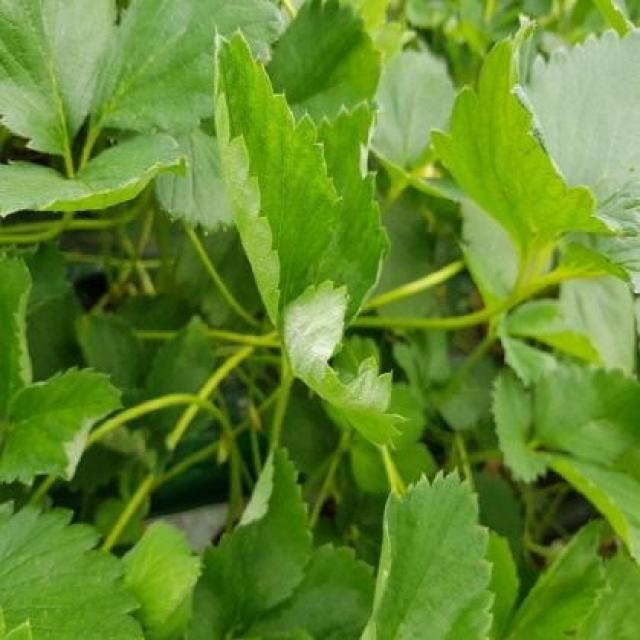powdery_mildew_leaf: (213, 27, 343, 359), (285, 280, 414, 450), (198, 444, 315, 626), (0, 365, 125, 488)
